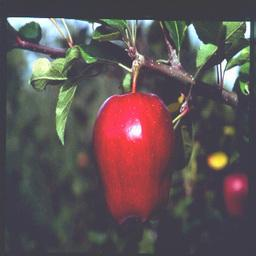apple: (92, 91, 179, 224)
